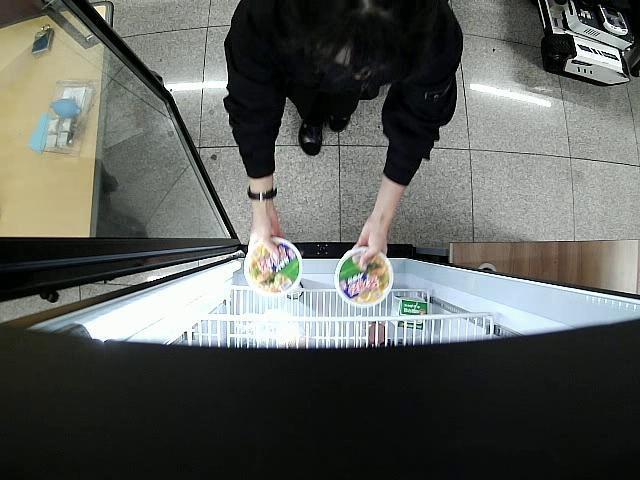09_yukGaeJang: (242, 236, 305, 298), (334, 246, 392, 308)
